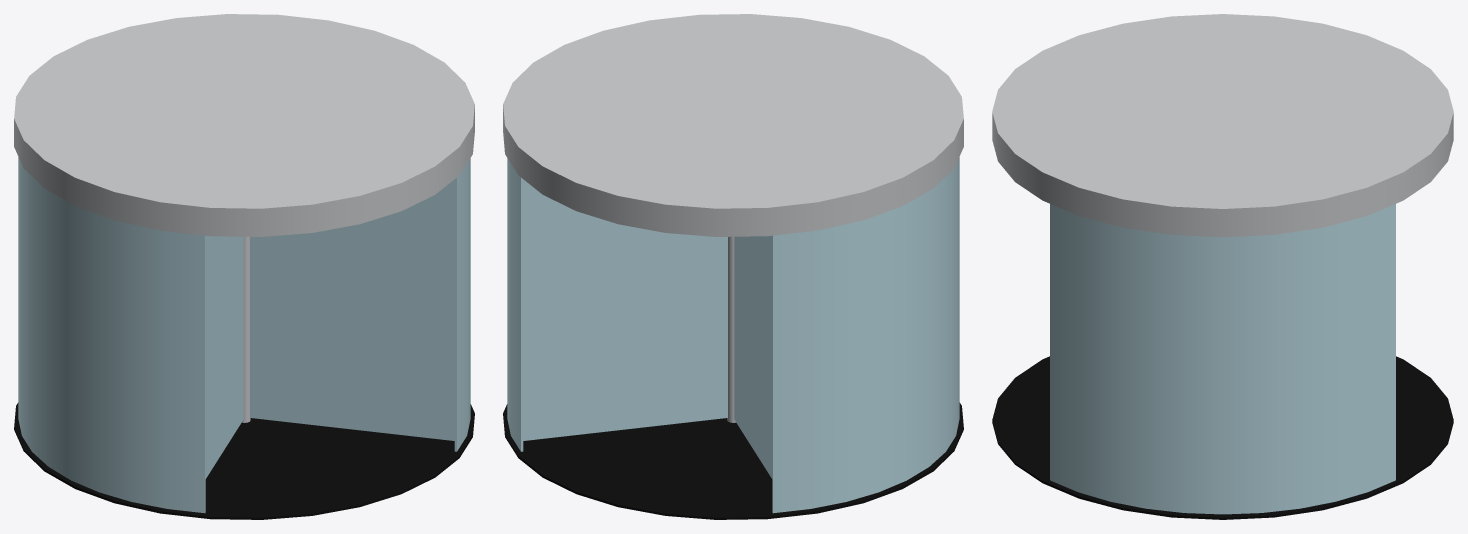
Rendered from opening.door.revolving_large.glb.
3 renders of one model, left to right at view 1: azimuth 30°, elevation 25°; view 2: azimuth 150°, elevation 25°; view 3: azimuth 270°, elevation 25°, orthographic.
Parts seen in each view (by area): view 1: frame__aluminium, frame__glass, leaf__glass, frame__rubber, leaf__aluminium; view 2: frame__aluminium, frame__glass, leaf__glass, frame__rubber, leaf__aluminium; view 3: frame__glass, frame__aluminium, frame__rubber.
Boxes of the visible parts, left/top/right/bottom form: frame__aluminium: left=14, top=14, right=474, bottom=236; frame__glass: left=18, top=157, right=470, bottom=513; leaf__glass: left=205, top=179, right=454, bottom=478; frame__rubber: left=14, top=402, right=474, bottom=519; leaf__aluminium: left=242, top=236, right=250, bottom=422; frame__aluminium: left=503, top=14, right=963, bottom=236; frame__glass: left=507, top=157, right=959, bottom=513; leaf__glass: left=523, top=179, right=772, bottom=478; frame__rubber: left=503, top=402, right=963, bottom=519; leaf__aluminium: left=727, top=236, right=735, bottom=422; frame__glass: left=1050, top=204, right=1395, bottom=514; frame__aluminium: left=992, top=14, right=1453, bottom=237; frame__rubber: left=992, top=356, right=1453, bottom=519.
Bounding box in the file's own units: 3.7 × 2.75 × 3.7.
